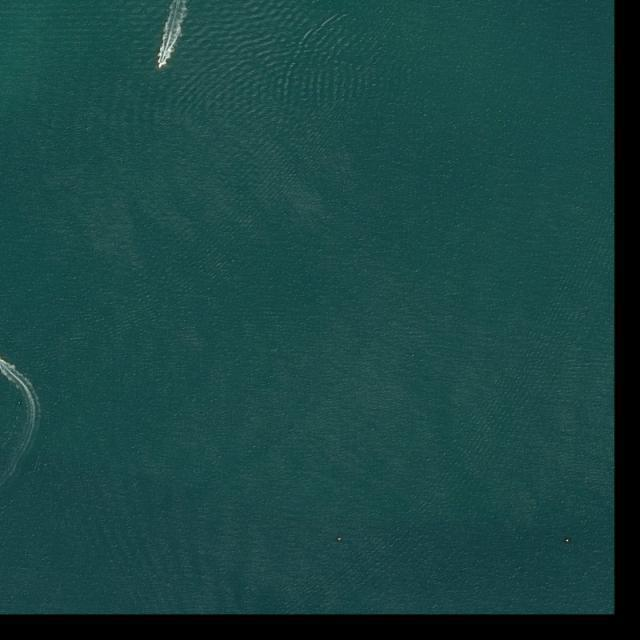ship: (158, 62, 164, 70)
